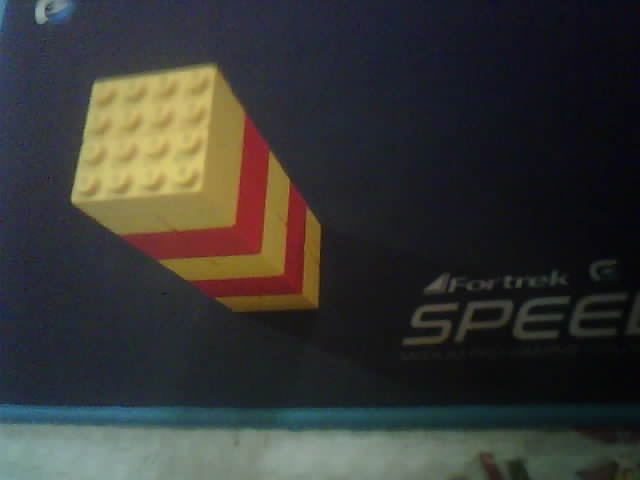lego: (69, 62, 323, 316)
